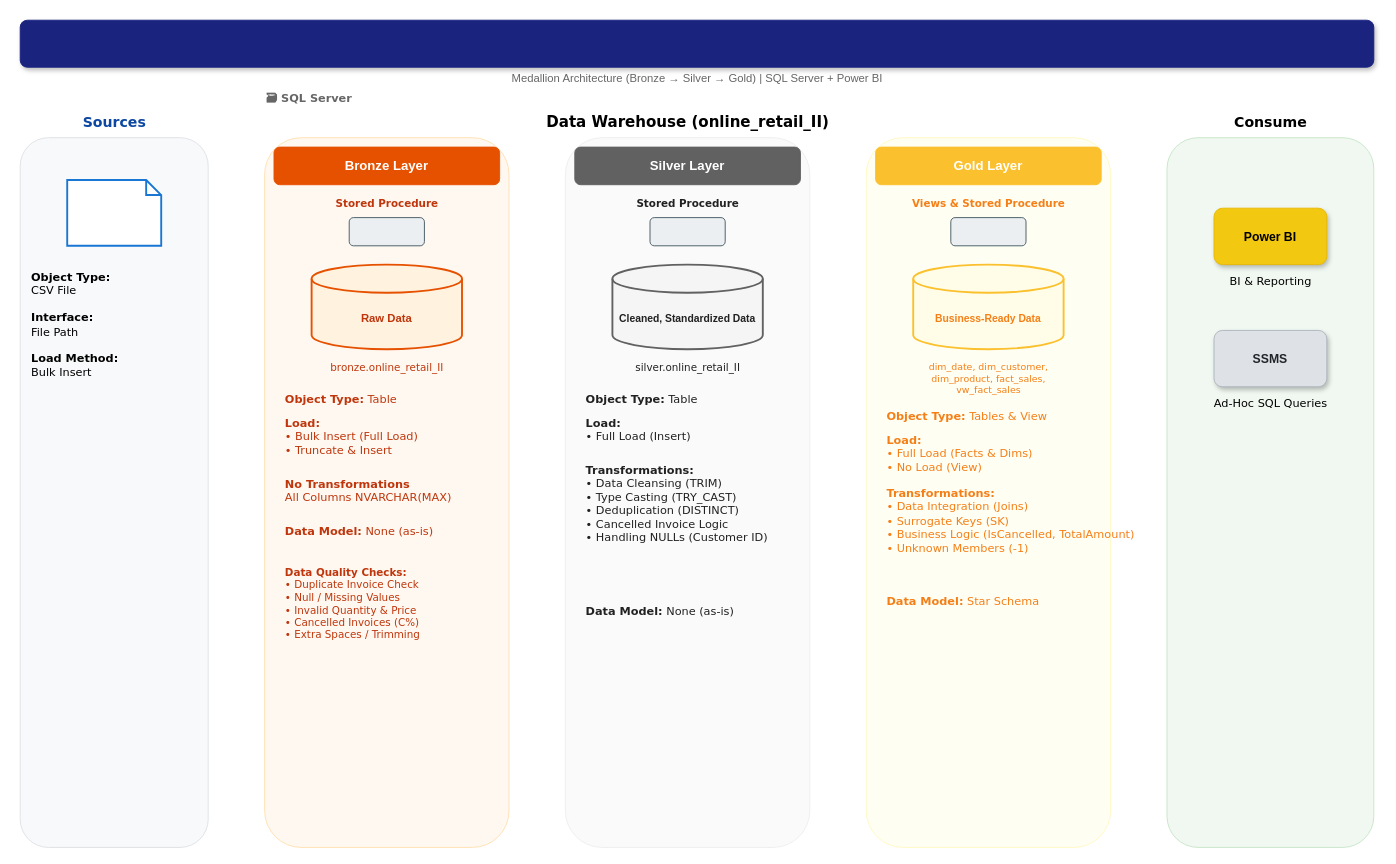
Some shapes in this 1396 by 864 pixel diagram are drawn without their labels. The shapes that lost their labels are listed below. From the top down, each one's centre as x and y in pixels, then its label:
(697,45): High Level Architecture – Online Retail II Data Warehouse
(114,212): online_retail_II.csv
